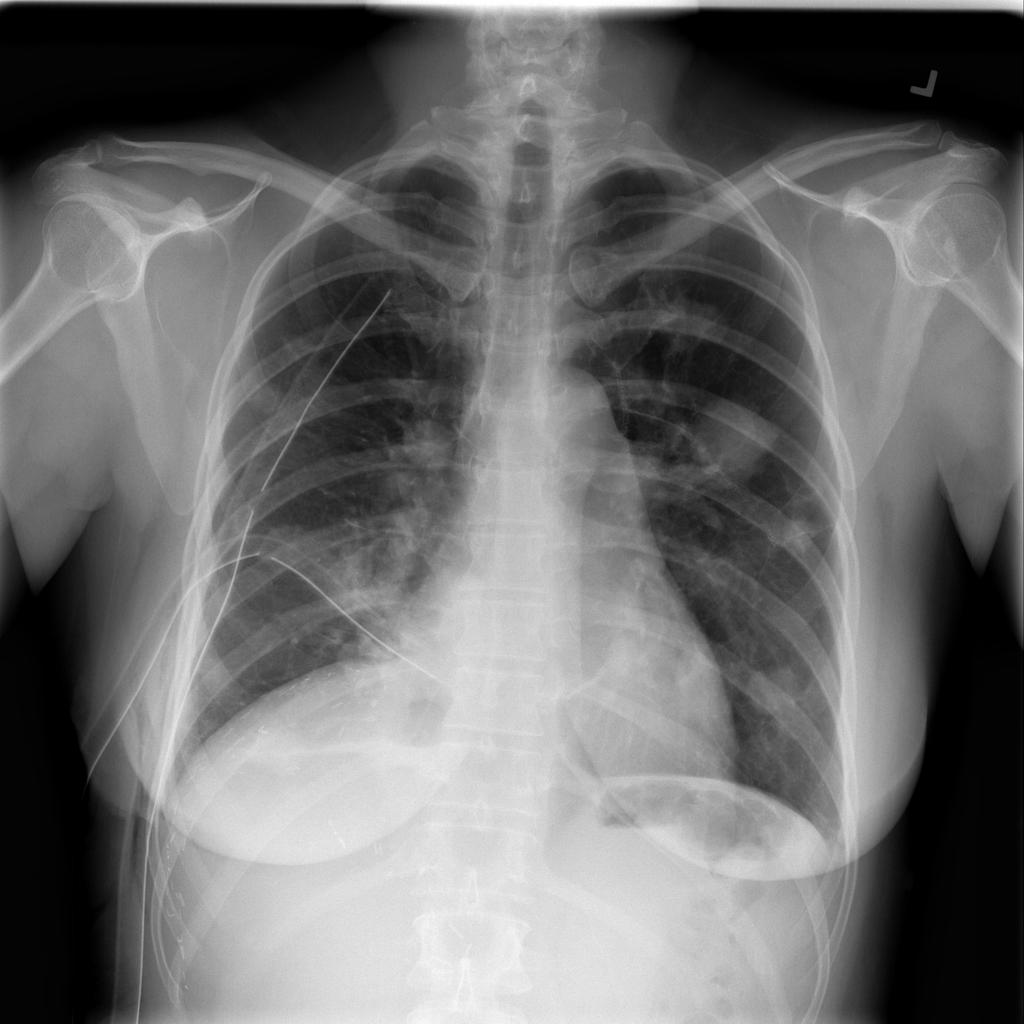nodule: (665, 378, 790, 502), (595, 609, 667, 689), (237, 716, 324, 782), (737, 653, 809, 732), (757, 499, 832, 571), (393, 406, 463, 480)
